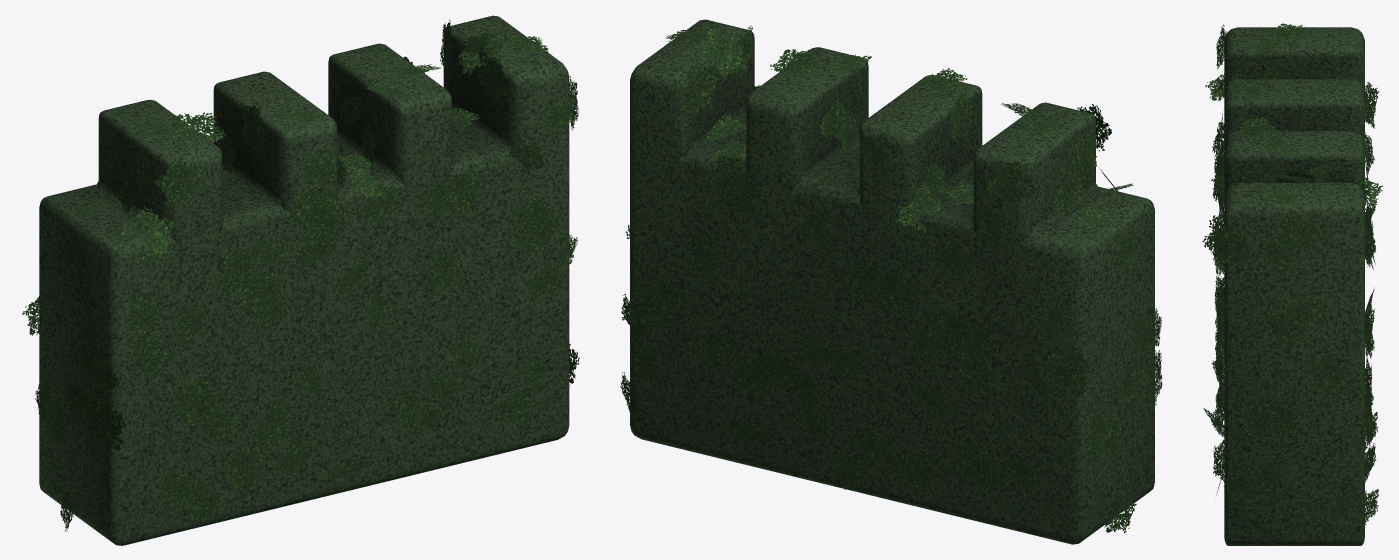
File: HedgeBattlement.fbx
3 views of the same model, side by side, from view 1: azimuth 30°, elevation 25°; view 2: azimuth 150°, elevation 25°; view 3: azimuth 270°, elevation 25° (orthographic). The views are drawn at different scales.
Visible parts, largest first — view 1: HedgeBattlement_Main, HedgeBattlement_Leaves; view 2: HedgeBattlement_Main, HedgeBattlement_Leaves; view 3: HedgeBattlement_Main, HedgeBattlement_Leaves.
Boxes of the visible parts, box(x1,y1,x2,y2) form: HedgeBattlement_Main: box(39, 15, 569, 545); HedgeBattlement_Leaves: box(22, 19, 579, 531); HedgeBattlement_Main: box(630, 19, 1154, 544); HedgeBattlement_Leaves: box(620, 25, 1162, 533); HedgeBattlement_Main: box(1224, 27, 1364, 545); HedgeBattlement_Leaves: box(1202, 23, 1382, 534).
Bounding box in the file's own units: 870 × 687 × 313.
